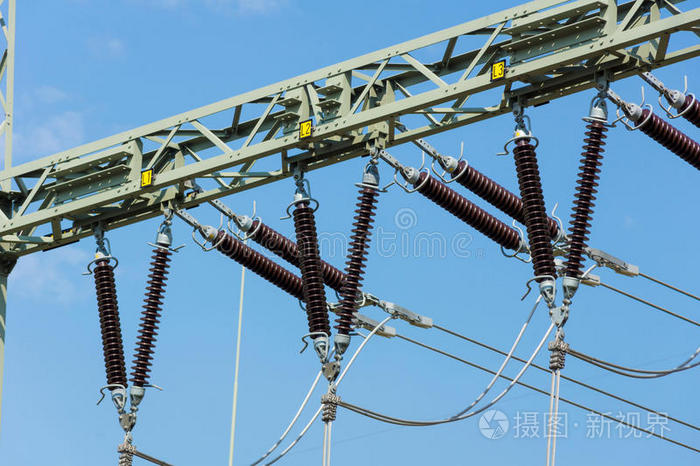insulator: (413, 171, 520, 251), (246, 218, 350, 290), (562, 120, 610, 275), (333, 183, 381, 333), (510, 138, 557, 286), (211, 232, 305, 304), (129, 244, 173, 388), (293, 205, 332, 336), (91, 257, 129, 391), (454, 160, 527, 223), (636, 106, 700, 168)
